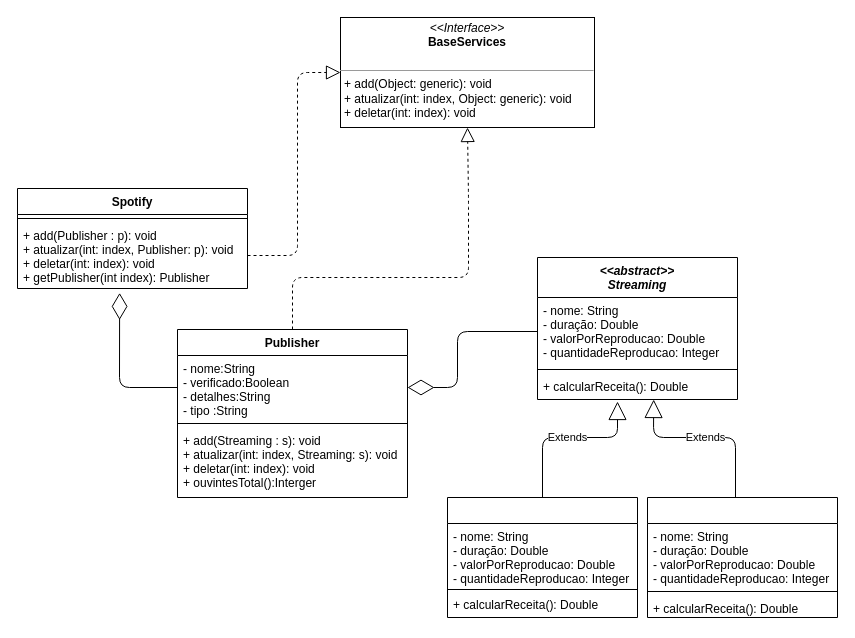
Image size: 855x638. Some labels were removed from this diagram. The shapes that lost their labels are listed below. From the top down, each one's box as (x1, y1, x2, y2) in pixels, then its label:
(446, 496, 638, 618): Musica
(646, 496, 838, 618): Podcast
